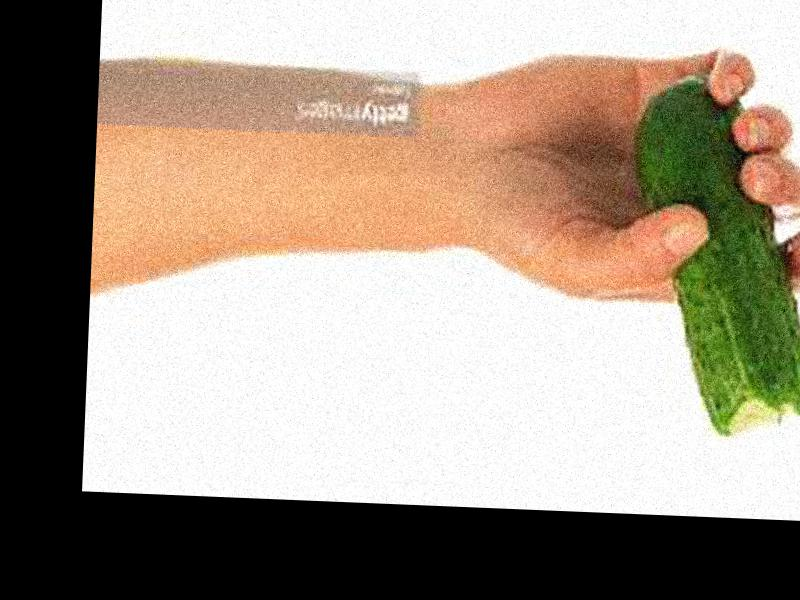Cucumber: (625, 77, 800, 438)
